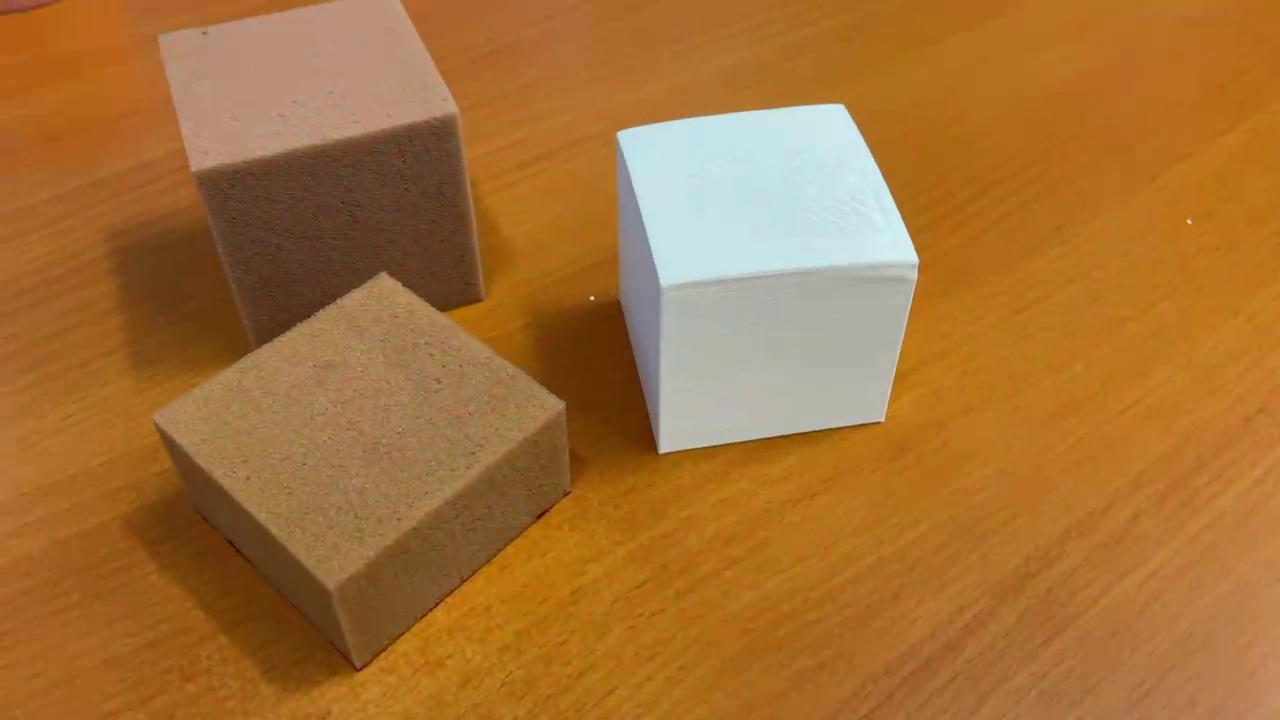Cube: (156, 1, 490, 350), (611, 99, 925, 461)
Cube_short: (148, 262, 579, 674)
